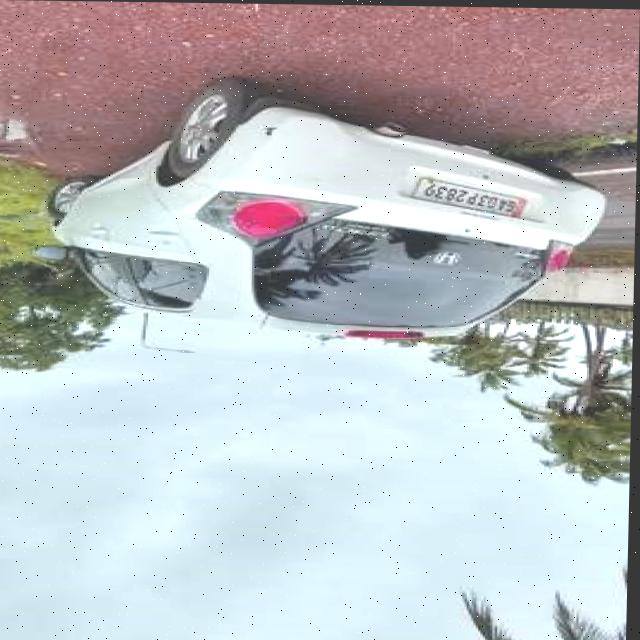plate: (413, 176, 532, 217)
